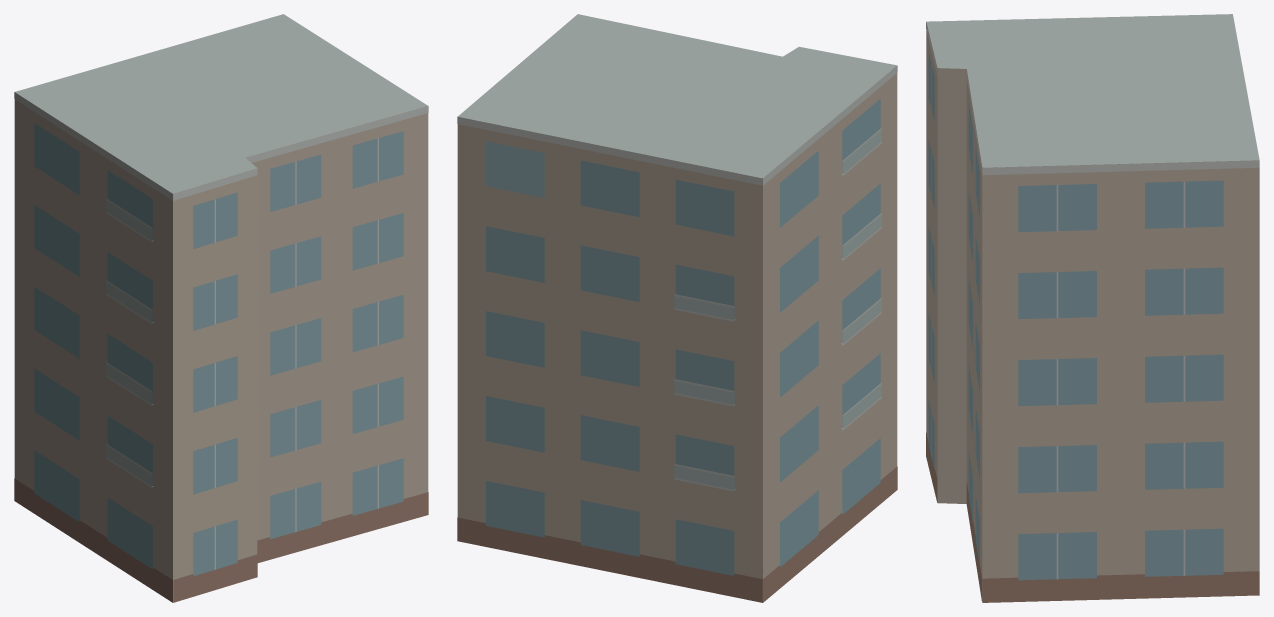
File: survey-upis-32933524.glb
3 views of the same model, side by side, from view 1: azimuth 30°, elevation 25°; view 2: azimuth 150°, elevation 25°; view 3: azimuth 270°, elevation 25° (orthographic). The views are drawn at different scales.
Visible parts, largest first — view 1: survey-upis-32933524.tmp; view 2: survey-upis-32933524.tmp; view 3: survey-upis-32933524.tmp.
Part boxes in pixels (x1=…): survey-upis-32933524.tmp: x1=14, y1=14, x2=428, y2=602; survey-upis-32933524.tmp: x1=457, y1=14, x2=897, y2=602; survey-upis-32933524.tmp: x1=926, y1=14, x2=1259, y2=602.
Bounding box in the file's own units: 10.77 × 14.2 × 9.87.
